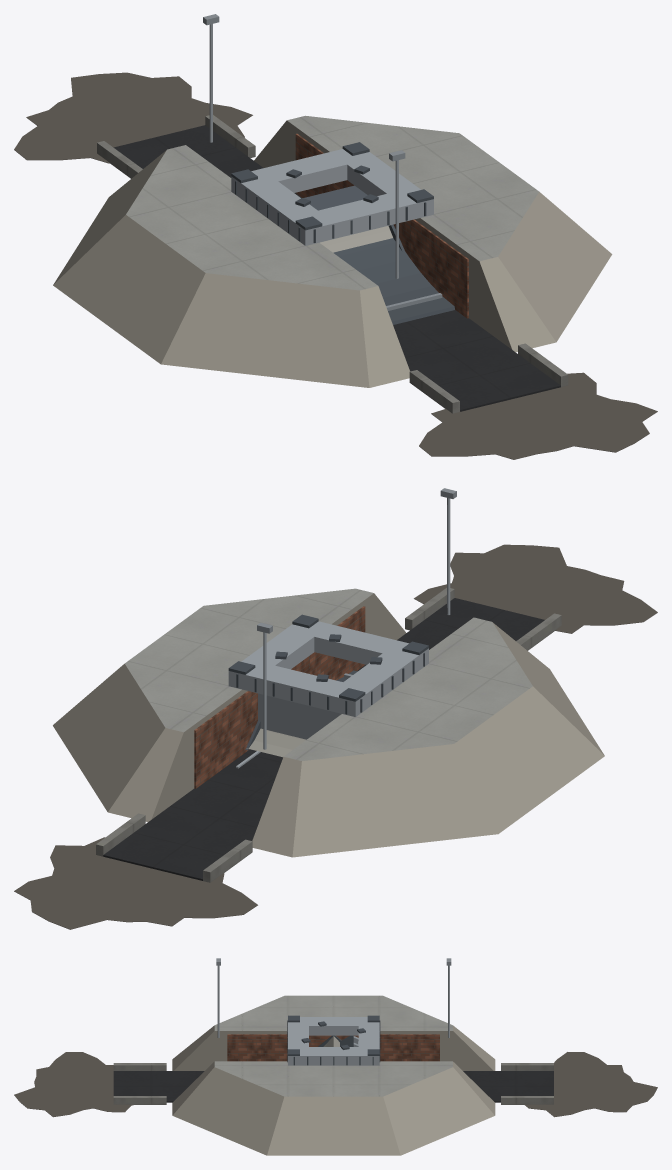
File: trench.glb
3 views of the same model, one above another, from view 1: azimuth 30°, elevation 25°; view 2: azimuth 150°, elevation 25°; view 3: azimuth 270°, elevation 25° (orthographic). The views are drawn at different scales.
Visible parts, largest first — view 1: trench, table, deflector_ramp, deflector_wedge; view 2: trench, table, deflector_ramp, deflector_wedge; view 3: trench, table.
Boxes of the visible parts, x1,y1,x2,y2 form: trench: (14, 14, 657, 459); table: (231, 142, 433, 245); deflector_ramp: (303, 185, 454, 324); deflector_wedge: (320, 224, 404, 252); trench: (14, 488, 657, 929); table: (228, 614, 428, 716); deflector_ramp: (258, 670, 357, 739); deflector_wedge: (236, 720, 306, 768); trench: (14, 958, 657, 1155); table: (287, 1015, 380, 1065).
Size of the model in its own units: 21.25 by 8.63 by 42.39.
10 materials, 4 textured.
